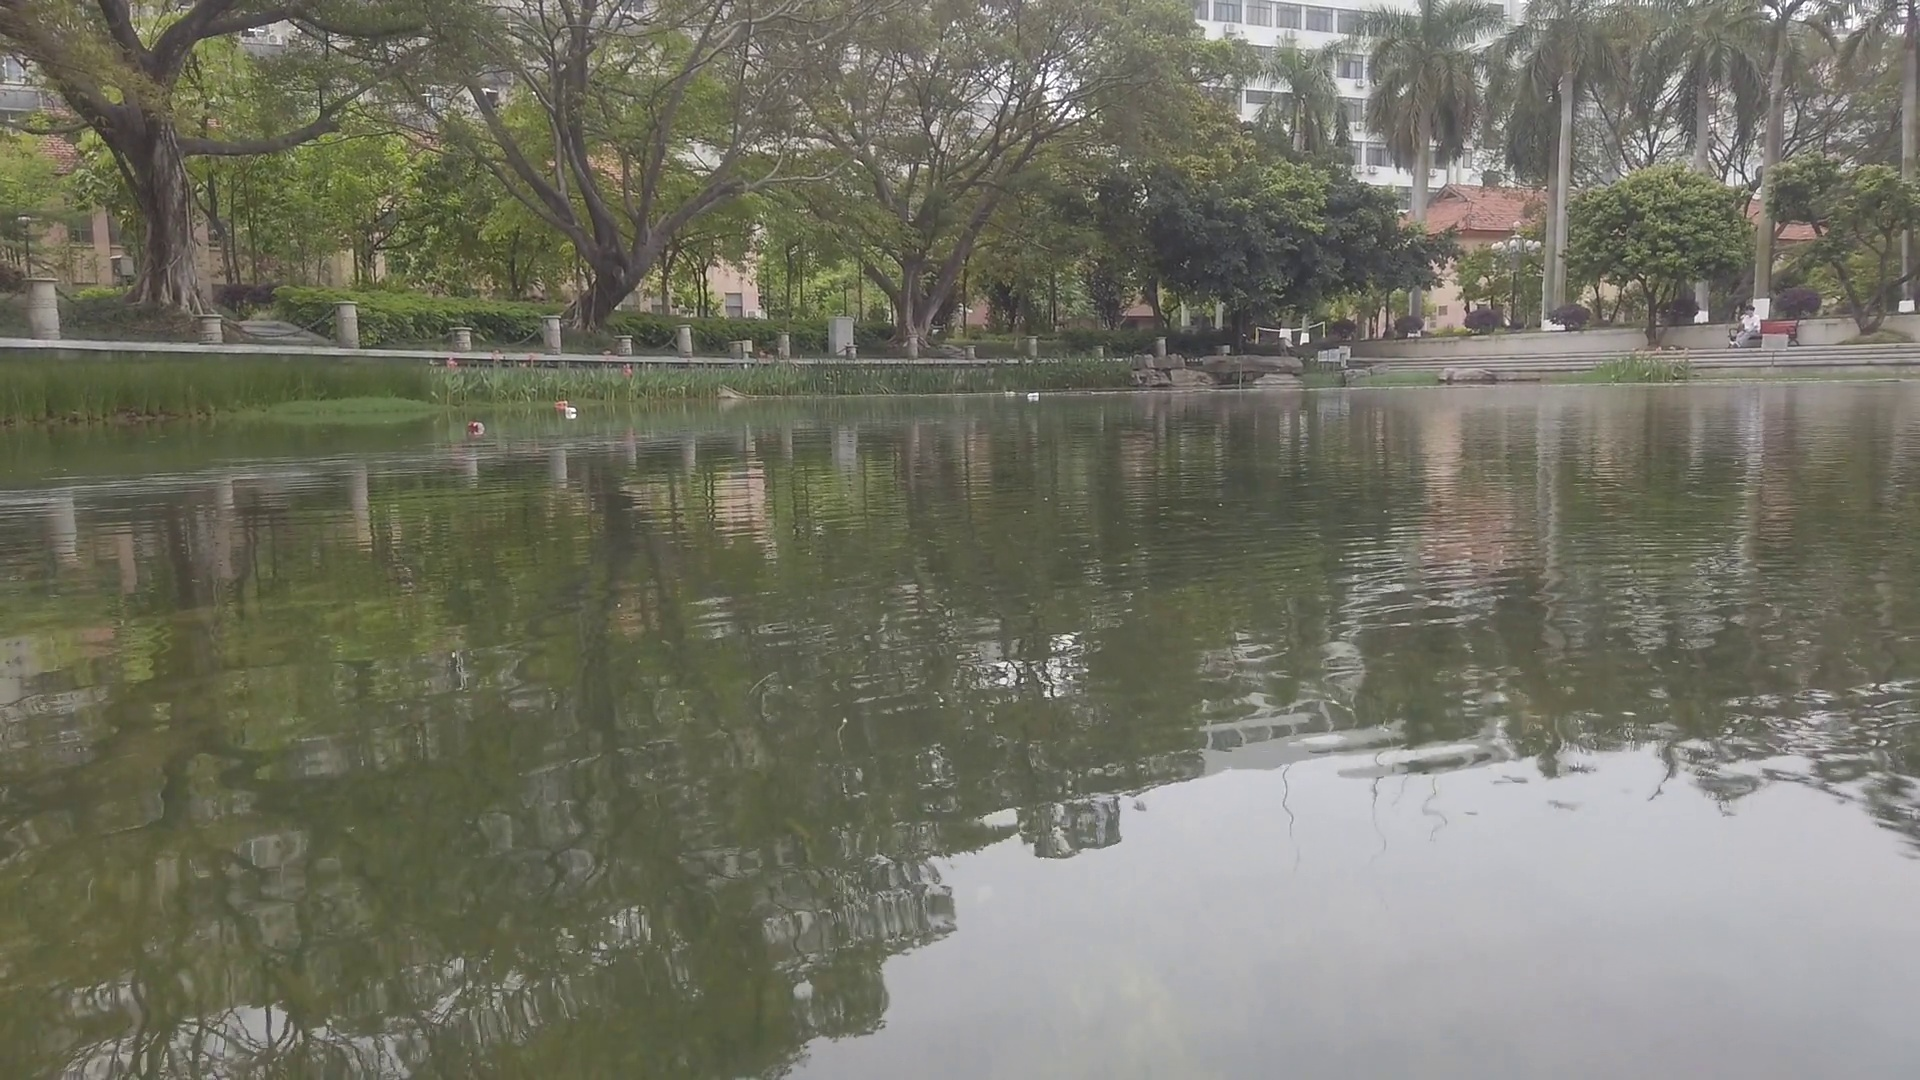bottle: (469, 419, 483, 431), (556, 400, 568, 406), (1029, 392, 1039, 398), (1006, 390, 1015, 396)
carton: (564, 406, 578, 413)
